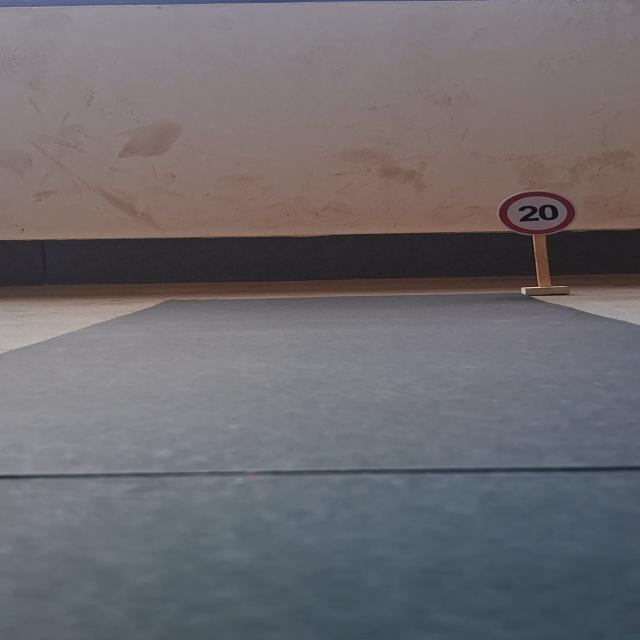Speed20: (486, 188, 584, 238)
